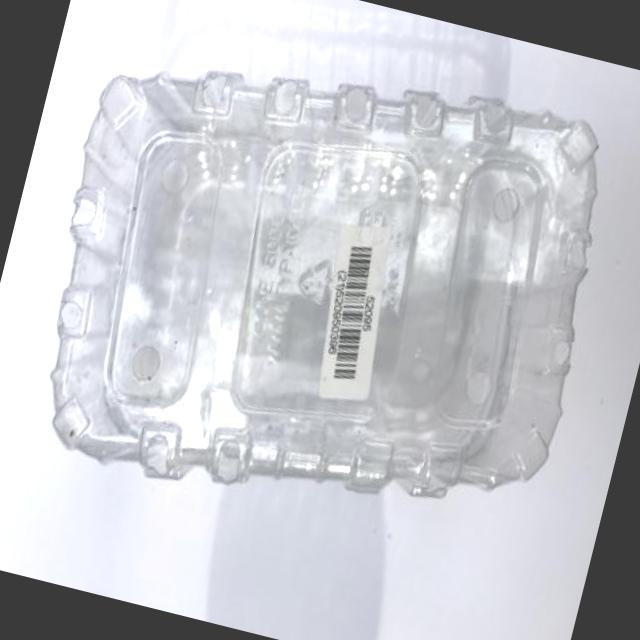Trash: (8, 0, 633, 572)
